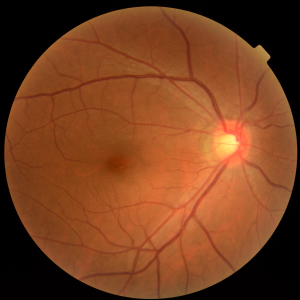healthy_eye: (26, 99, 267, 209)
